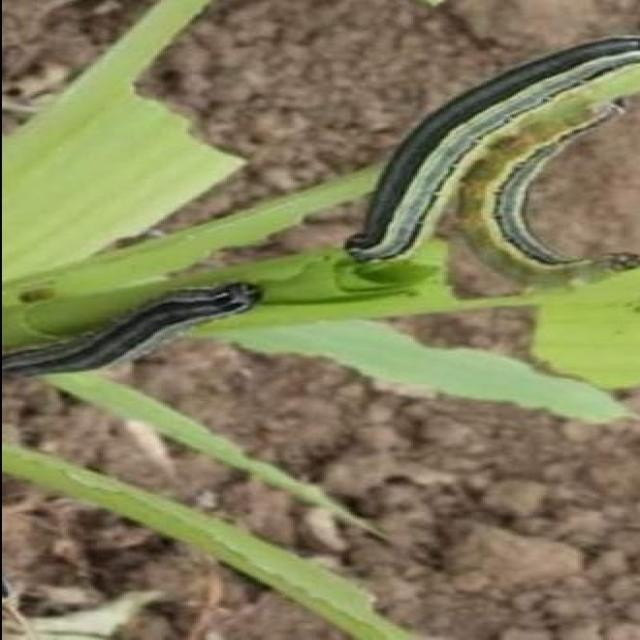army worm: (347, 32, 640, 274), (2, 280, 272, 391), (487, 98, 628, 279)
